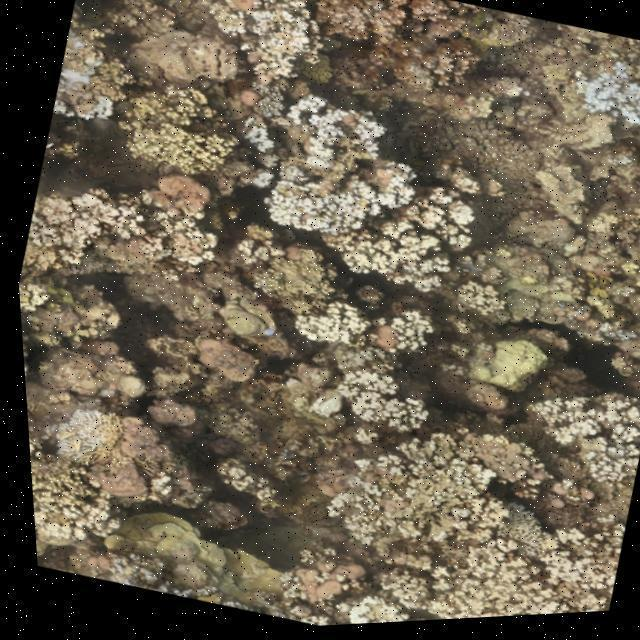Bleached Coral: (246, 144, 482, 292), (266, 82, 392, 184), (530, 382, 640, 488), (465, 480, 559, 580), (36, 374, 128, 474), (562, 53, 640, 143), (46, 61, 128, 132)
